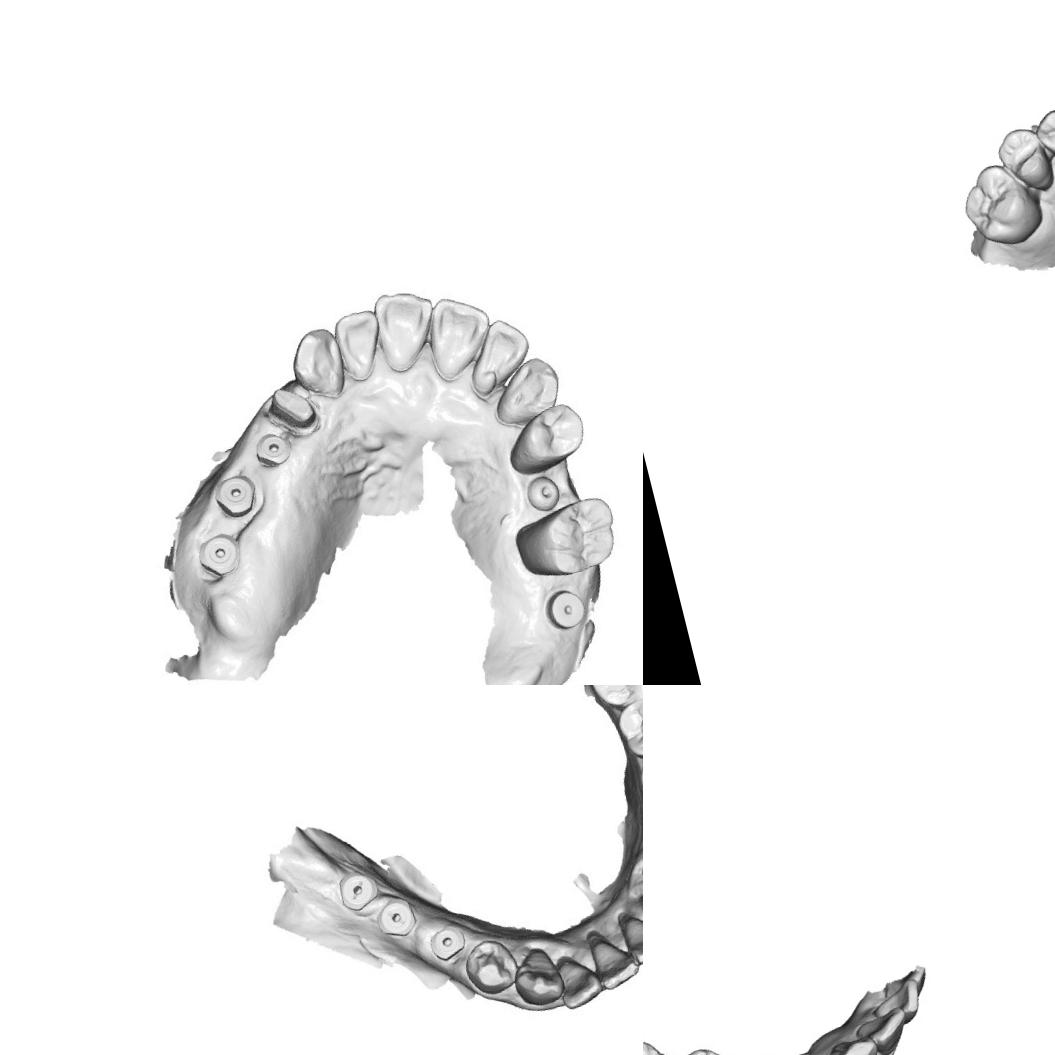canine: (484, 353, 568, 427), (283, 322, 352, 409), (504, 944, 566, 1012), (824, 1031, 885, 1055)
crown: (264, 380, 317, 432)
implant: (540, 582, 588, 634), (195, 526, 243, 576), (211, 469, 260, 517), (423, 922, 469, 965), (252, 428, 291, 468), (528, 474, 561, 510)
implant_minus: (371, 894, 420, 944), (331, 866, 380, 913)
incisor: (453, 312, 539, 400), (370, 277, 444, 372), (421, 290, 493, 376), (329, 306, 391, 389), (586, 924, 642, 994), (551, 948, 609, 1013), (864, 974, 928, 1029), (849, 1002, 914, 1055), (617, 905, 643, 967)
molar: (955, 156, 1047, 254), (528, 495, 620, 574), (576, 685, 643, 715)
premolar: (508, 401, 598, 480), (990, 121, 1055, 200), (460, 936, 523, 999), (613, 691, 643, 763), (1028, 100, 1055, 171)
